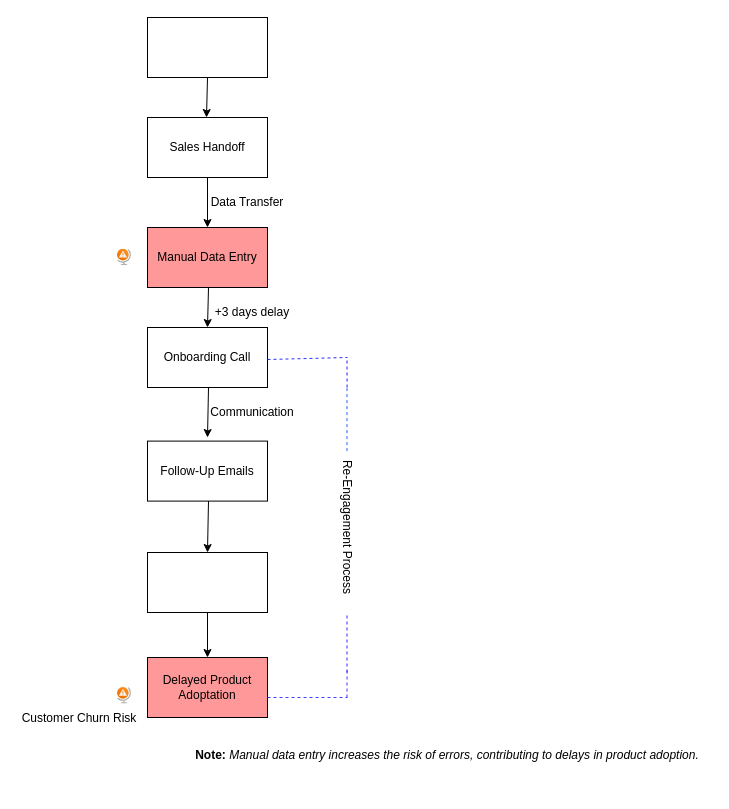
Image size: 729x809. Some labels were removed from this diagram. Here are the shapes that lost their labels. From the top down, the centre of each, then its label:
At (x=207, y=47): "Lead Generation".
At (x=207, y=582): "Product Access Provisioning".
